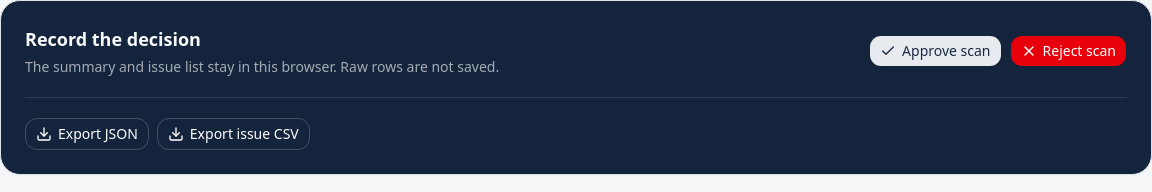
Test case: ScanActions › clears a saved decision when a recalculation produces a new result
What coordinates should you click on to do the following:
click the button "Approve scan"
I would click on:
 (935, 51)
Its box is [869,35,1002,67].
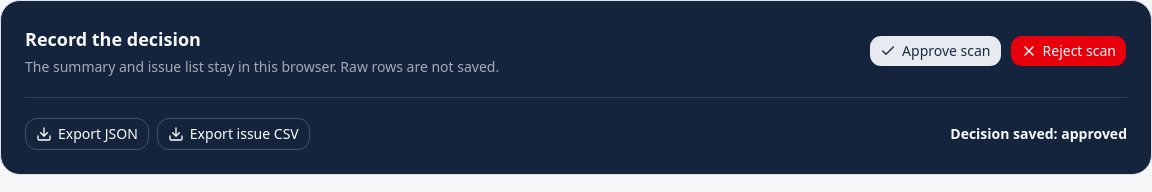
Check: the text "Decision saved: approved" is shown, box [950,124,1127,144]
